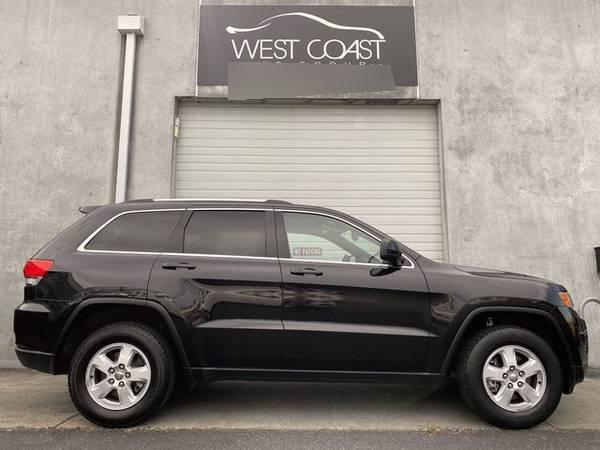Front_Bumper: (553, 306, 592, 394)
Front_Fender: (419, 257, 574, 384)
Front_Right_Door: (277, 256, 432, 380)
Front_Right_Window: (278, 208, 414, 269)
Rear_Bumper: (15, 283, 85, 374)
Rear_Fender: (39, 206, 189, 303)
Rear_Right_Door: (144, 255, 289, 379)
Rear_Right_Window: (161, 208, 279, 257)
Right_Taillight: (23, 257, 57, 287)
Roof: (34, 198, 422, 261)
Wheel: (67, 321, 175, 428), (458, 318, 566, 424)
